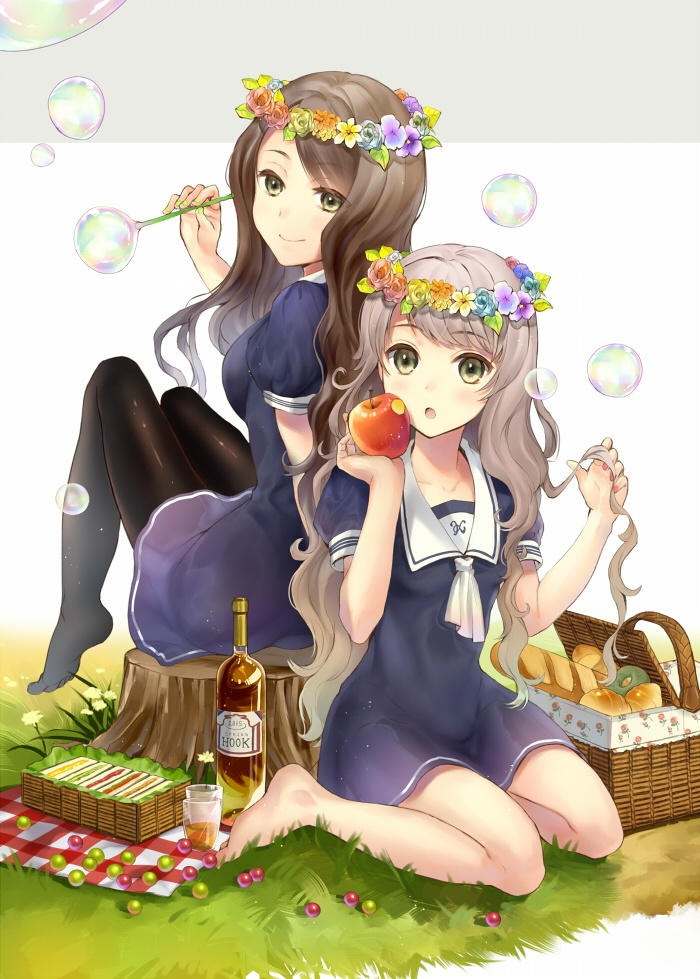纸片人正脸: (234, 82, 421, 271), (364, 247, 544, 442)
